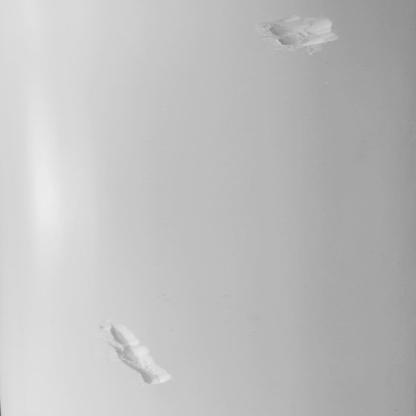sunshang: (102, 323, 169, 386), (258, 11, 340, 56)
